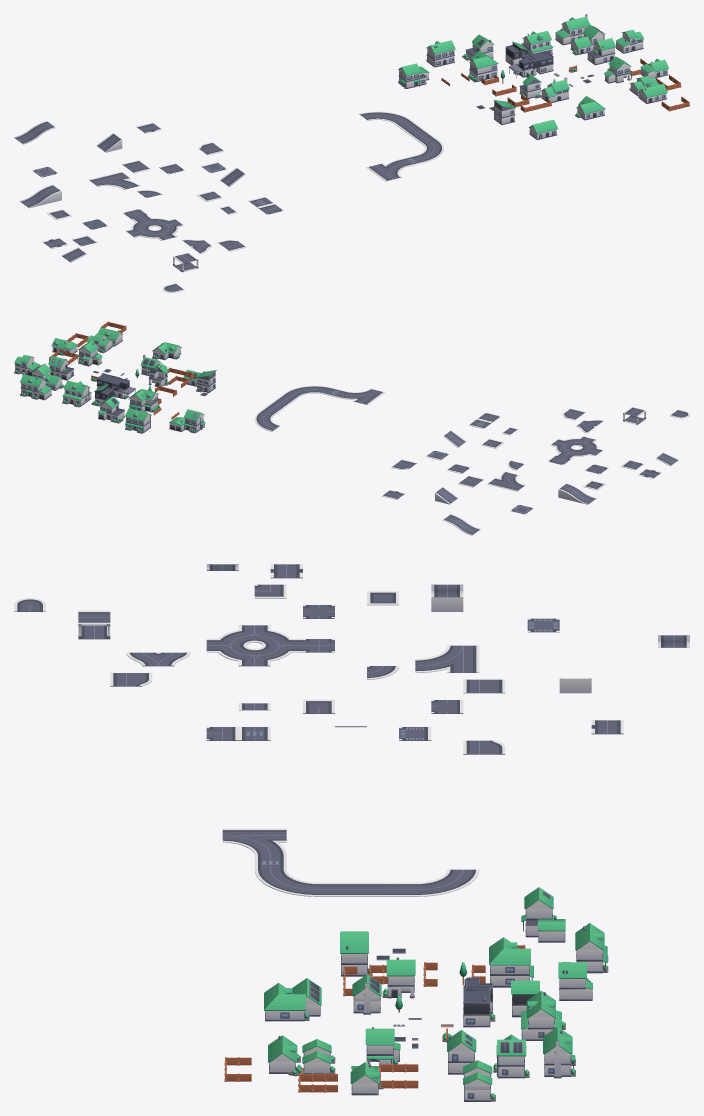
The model's file is fullmodel.glb.
The picture shows the model from 3 angles, top to bottom: view 1: azimuth 30°, elevation 25°; view 2: azimuth 150°, elevation 25°; view 3: azimuth 270°, elevation 25°; orthographic projection. The views are drawn at different scales.
Visible parts, largest first — view 1: road-roundabout, building-type-f, building-type-e, building-type-d, building-type-n, building-type-b, building-type-t, building-type-o, road-slant-curve, building-type-s, road-curve-intersection, building-type-c (+8 smaller); view 2: road-roundabout, building-type-d, building-type-n, building-type-t, building-type-f, building-type-e, building-type-u, building-type-s, road-slant-curve, building-type-b, building-type-o, road-curve-intersection.002 (+7 smaller); view 3: road-roundabout, building-type-n, building-type-f, building-type-t, road-curve-intersection.002, road-curve-intersection, building-type-d, building-type-m, building-type-e, building-type-b, building-type-u, building-type-k (+13 smaller).
Part boxes in pixels (<box>): road-roundabout: <box>126,215,183,240</box>; building-type-f: <box>467,50,498,82</box>; building-type-e: <box>426,40,455,67</box>; building-type-d: <box>555,14,590,45</box>; building-type-n: <box>398,63,429,88</box>; building-type-b: <box>570,25,605,55</box>; building-type-t: <box>521,30,552,54</box>; building-type-o: <box>587,38,615,65</box>; road-slant-curve: <box>19,184,61,208</box>; building-type-s: <box>604,56,632,83</box>; road-curve-intersection: <box>89,171,140,189</box>; building-type-c: <box>615,30,643,53</box>; road-roundabout: <box>550,436,602,458</box>; building-type-d: <box>20,372,51,400</box>; building-type-n: <box>169,409,205,433</box>; building-type-t: <box>62,380,91,407</box>; building-type-f: <box>129,389,160,412</box>; building-type-e: <box>125,408,151,433</box>; building-type-u: <box>98,396,124,423</box>; building-type-s: <box>76,341,102,366</box>; road-slant-curve: <box>558,483,596,504</box>; building-type-b: <box>31,363,64,390</box>; building-type-o: <box>48,356,74,380</box>; road-curve-intersection.002: <box>338,388,384,404</box>; road-roundabout: <box>206,625,302,666</box>; building-type-n: <box>521,887,565,942</box>; building-type-f: <box>489,937,533,987</box>; building-type-t: <box>521,991,565,1040</box>; road-curve-intersection.002: <box>222,828,286,855</box>; road-curve-intersection: <box>415,645,479,672</box>; building-type-d: <box>543,1027,575,1078</box>; building-type-m: <box>264,983,309,1021</box>; building-type-e: <box>575,923,608,973</box>; building-type-b: <box>493,1034,529,1078</box>; building-type-u: <box>558,962,592,1000</box>; building-type-k: <box>340,931,372,976</box>.
Size of what is drawn, in the model's own units: 39.64 by 2.19 by 21.06.
Materials: 77 (77 with a texture image).
